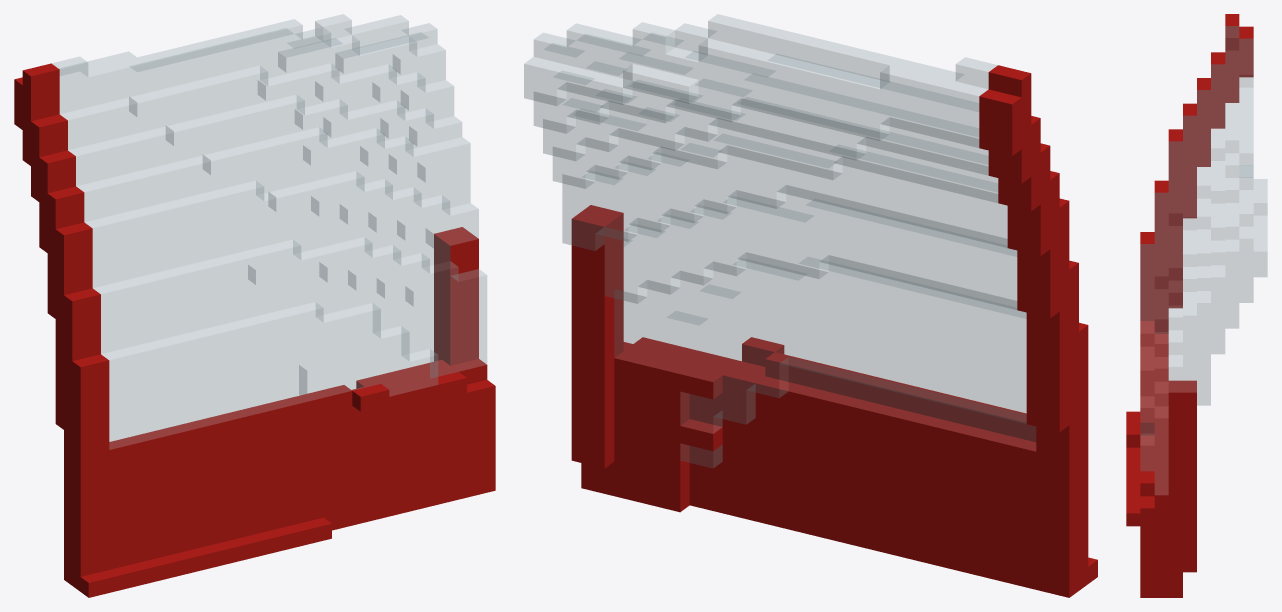
Rendered from light_helicopter_door.glb.
3 views of the same model, side by side, from view 1: azimuth 30°, elevation 25°; view 2: azimuth 150°, elevation 25°; view 3: azimuth 270°, elevation 25° (orthographic). The views are drawn at different scales.
Visible parts, largest first — view 1: body:compound; view 2: body:compound; view 3: body:compound.
Boxes of the visible parts, x1,y1,x2,y2 form: body:compound: [14, 14, 495, 597]; body:compound: [524, 14, 1097, 597]; body:compound: [1126, 14, 1267, 597].
Size of the model in its own units: 0.9062 by 1 by 0.3125.
